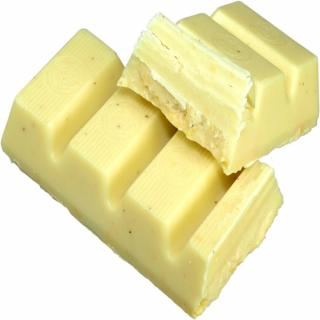Cheese: (2, 27, 284, 317), (116, 0, 320, 176)
